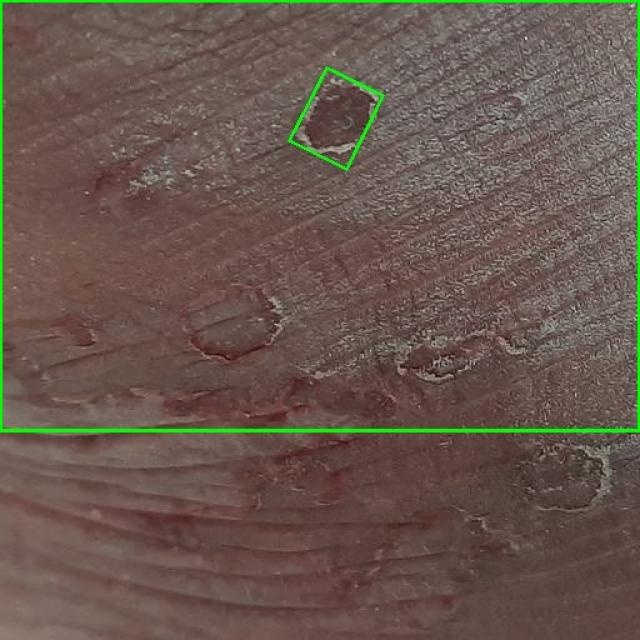Contact Dermatitis: (0, 0, 639, 431), (290, 68, 383, 170)
